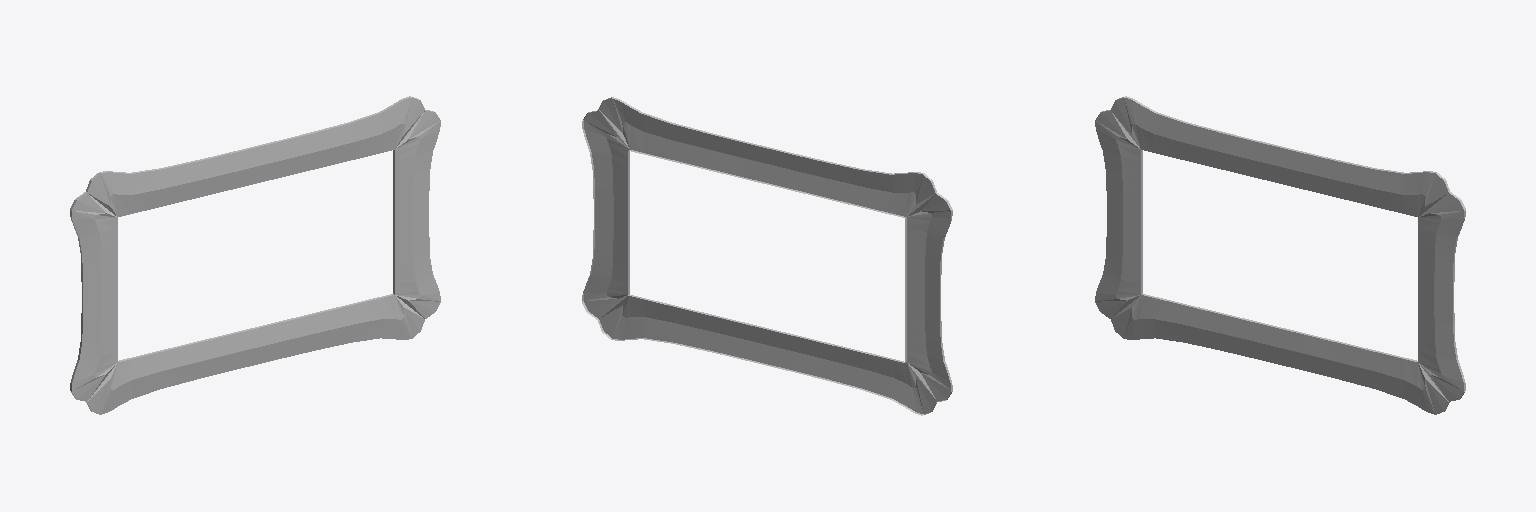
File: RektFrame.obj
The picture shows the model from 3 angles: view 1: azimuth 30°, elevation 25°; view 2: azimuth 150°, elevation 25°; view 3: azimuth 330°, elevation 25°; orthographic projection.
Visible parts, largest first — view 1: Rectangle_Plane.003; view 2: Rectangle_Plane.003; view 3: Rectangle_Plane.003.
Boxes of the visible parts, box(x1,y1,x2,y2) form: Rectangle_Plane.003: box(70, 96, 440, 414); Rectangle_Plane.003: box(582, 97, 952, 415); Rectangle_Plane.003: box(1095, 96, 1465, 414).
Size of the model in its own units: 2.67 by 1.67 by 0.0338.